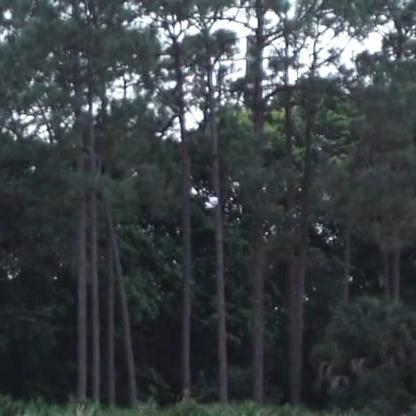golfball: (208, 195, 217, 204)
